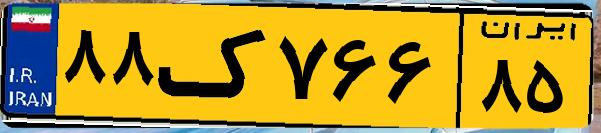5: (525, 38, 570, 115)
6: (385, 28, 445, 110), (330, 28, 385, 110)
7: (270, 28, 330, 110)
8: (57, 26, 110, 100), (475, 38, 525, 113), (110, 28, 158, 98)
ک: (158, 12, 270, 120)
